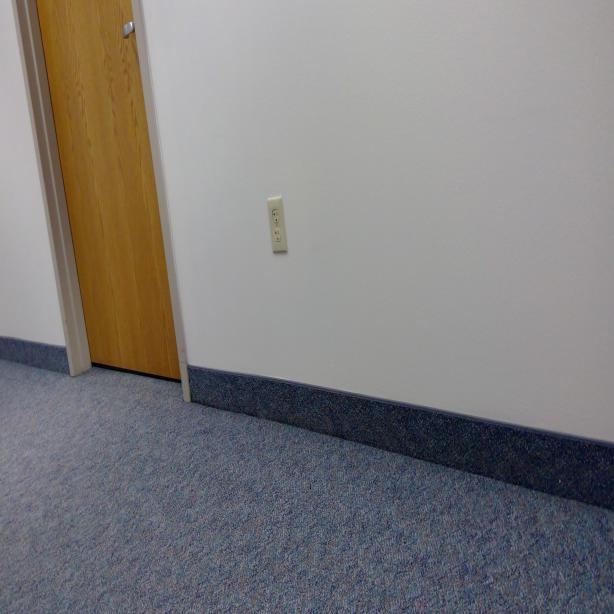typeb: (272, 228, 282, 244), (272, 208, 279, 224)
